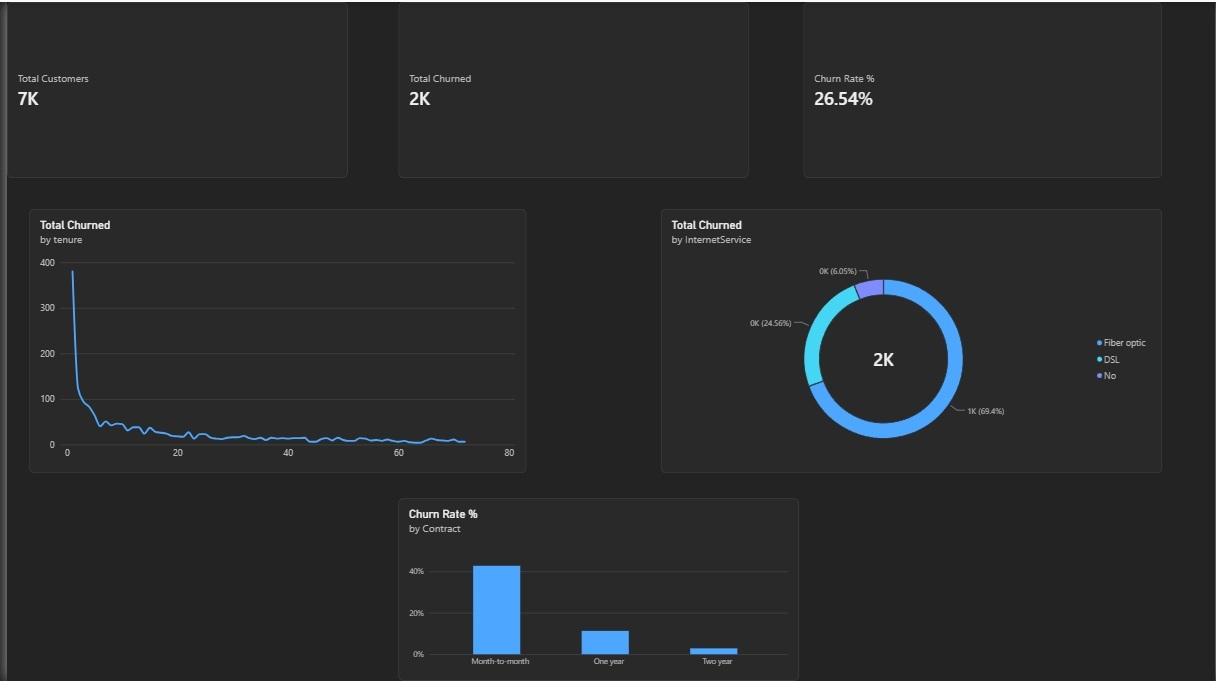

This screenshot's page, from the dashboard's own definition file:
{"tool":"powerbi","page":{"name":"Page 1","canvas":[1920,1080],"ordinal":0},"visuals":[{"type":"cardVisual","fields":{"Data":["cleaned_telco_churn.Total Customers"]},"box":[0,0,542.5,280],"z":0},{"type":"cardVisual","fields":{"Data":["cleaned_telco_churn.Total Churned"]},"box":[623.3,0,557.5,280],"z":1000},{"type":"cardVisual","fields":{"Data":["cleaned_telco_churn.Churn Rate %"]},"box":[1266.7,0,570,280],"z":2000},{"type":"clusteredColumnChart","fields":{"Category":["cleaned_telco_churn.Contract"],"Y":["cleaned_telco_churn.Churn Rate %"]},"box":[623.3,790,636.7,290],"z":2001},{"type":"donutChart","fields":{"Category":["cleaned_telco_churn.InternetService"],"Y":["cleaned_telco_churn.Total Churned"]},"box":[1040,330,796.7,420],"z":2002},{"type":"lineChart","fields":{"Category":["cleaned_telco_churn.tenure"],"Y":["cleaned_telco_churn.Total Churned"]},"box":[36.7,330,790,420],"z":2003}]}

Visuals, with their boxes in screenshot pixels (x1, y1, x2, y2), scaled from the page's 1920x1080 canvas onto the 1216x681 screenshot:
cardVisual - cleaned_telco_churn.Total Customers: <bbox>0, 0, 344, 177</bbox>
cardVisual - cleaned_telco_churn.Total Churned: <bbox>395, 0, 748, 177</bbox>
cardVisual - cleaned_telco_churn.Churn Rate %: <bbox>802, 0, 1163, 177</bbox>
clusteredColumnChart - cleaned_telco_churn.Contract x cleaned_telco_churn.Churn Rate %: <bbox>395, 498, 798, 680</bbox>
donutChart - cleaned_telco_churn.InternetService x cleaned_telco_churn.Total Churned: <bbox>659, 208, 1163, 473</bbox>
lineChart - cleaned_telco_churn.tenure x cleaned_telco_churn.Total Churned: <bbox>23, 208, 524, 473</bbox>
